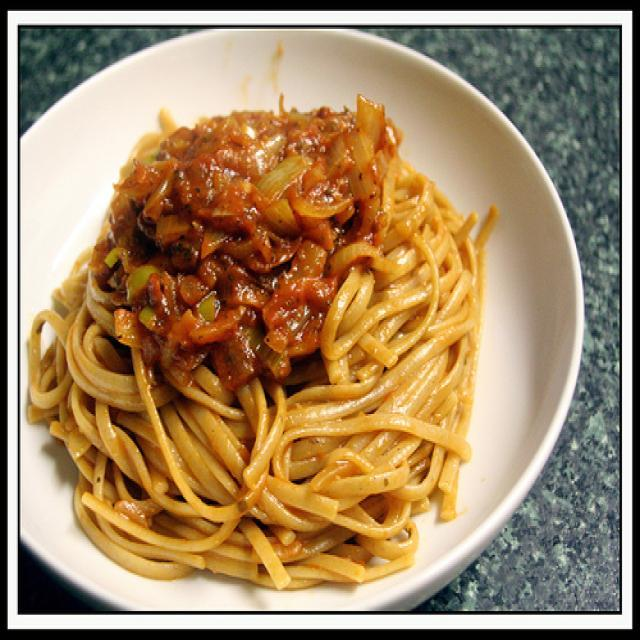Pasta: (29, 78, 500, 596)
